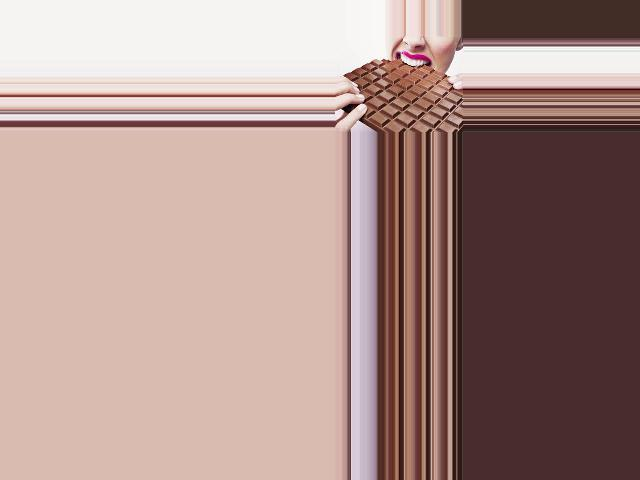chocolate: (334, 56, 462, 132)
